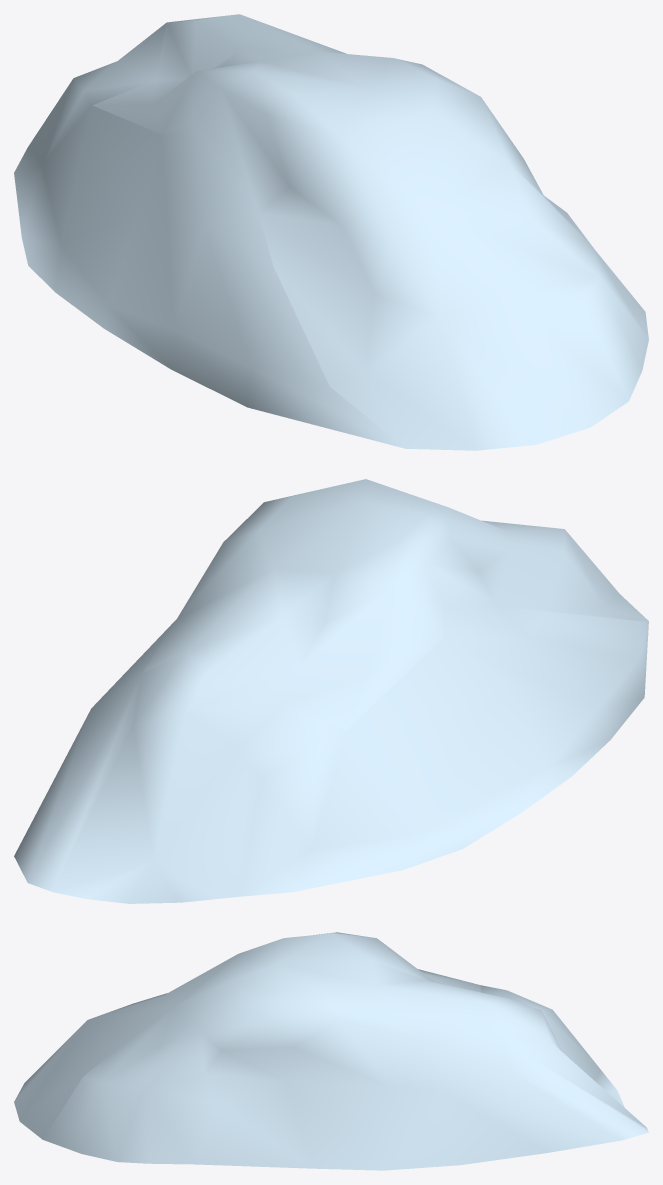
Rendered from snowPileDig.glb.
3 views of the same model, one above another, from view 1: azimuth 30°, elevation 25°; view 2: azimuth 150°, elevation 25°; view 3: azimuth 270°, elevation 25° (orthographic). The views are drawn at different scales.
Visible parts, largest first — view 1: snowPile; view 2: snowPile; view 3: snowPile.
Part boxes in pixels (x1=…): snowPile: x1=14, y1=14, x2=648, y2=450; snowPile: x1=14, y1=479, x2=648, y2=903; snowPile: x1=14, y1=932, x2=648, y2=1170.
Size of what is drawn, in the model's own units: 2.27 by 1.15 by 4.2.
